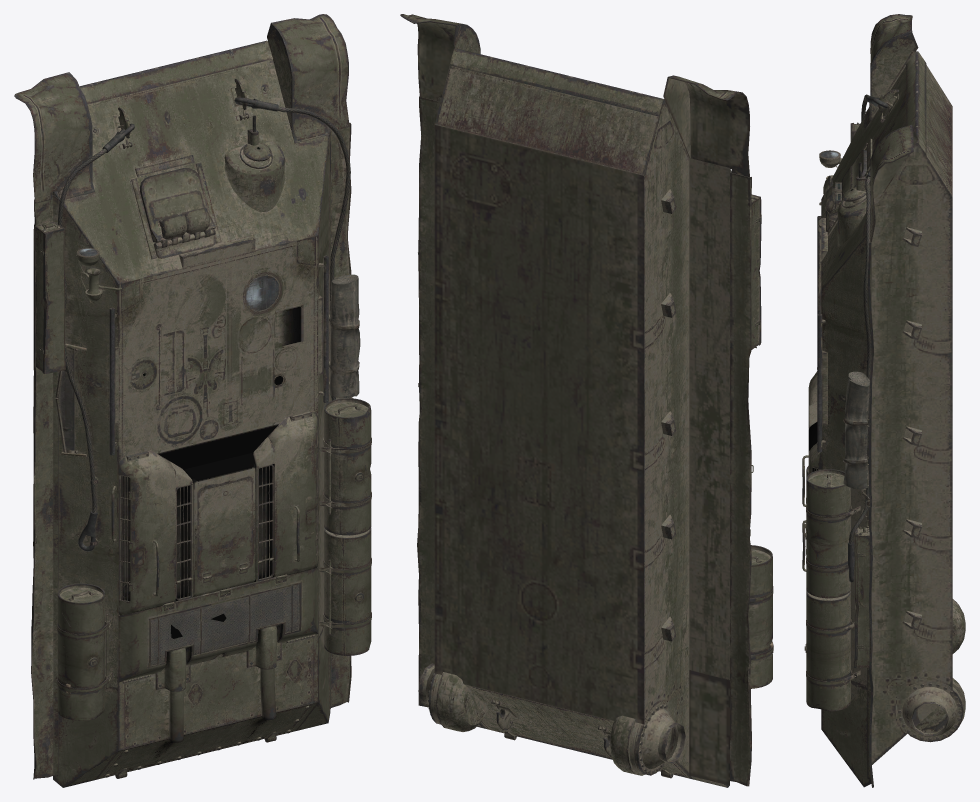
Rendered from Hull.glb.
3 views of the same model, side by side, from view 1: azimuth 30°, elevation 25°; view 2: azimuth 150°, elevation 25°; view 3: azimuth 270°, elevation 25° (orthographic). The views are drawn at different scales.
Parts seen in each view (by area): view 1: set_0_group_0; view 2: set_0_group_0; view 3: set_0_group_0.
Part boxes in pixels (x1=…): set_0_group_0: x1=14, y1=14, x2=371, y2=787; set_0_group_0: x1=400, y1=14, x2=773, y2=787; set_0_group_0: x1=802, y1=14, x2=965, y2=787.
Bounding box in the file's own units: 3.05 × 6.28 × 1.43.
1 material, 1 textured.
